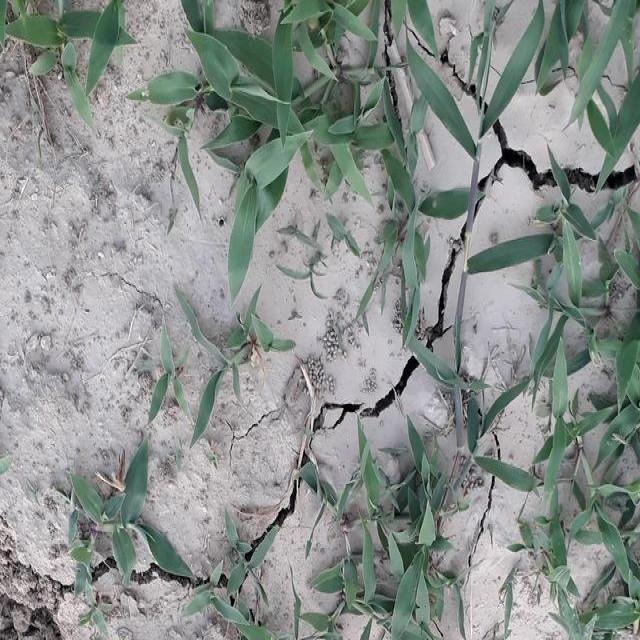weed: (490, 188, 640, 626), (180, 0, 443, 199), (298, 450, 464, 632), (15, 0, 136, 88)
